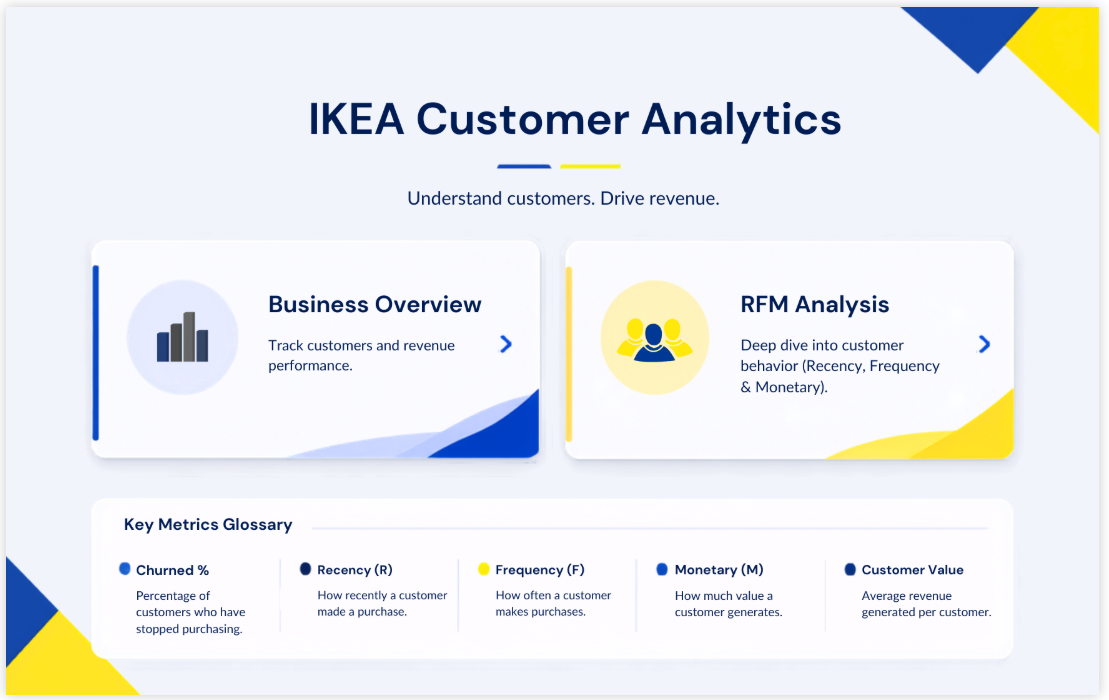

The page's visual inventory and layout, read from the dashboard file:
{"tool":"powerbi","page":{"name":"IKEA Customer Analytics","canvas":[1750,1100],"ordinal":0},"visuals":[{"type":"actionButton","box":[136,378,722,344],"z":0},{"type":"actionButton","box":[892,378,718,344],"z":1000}]}

Visuals, with their boxes in screenshot pixels (x1, y1, x2, y2), scaled from the page's 1750x1100 canvas onto the 1109x700 screenshot:
actionButton: (x1=86, y1=241, x2=544, y2=459)
actionButton: (x1=565, y1=241, x2=1020, y2=459)
